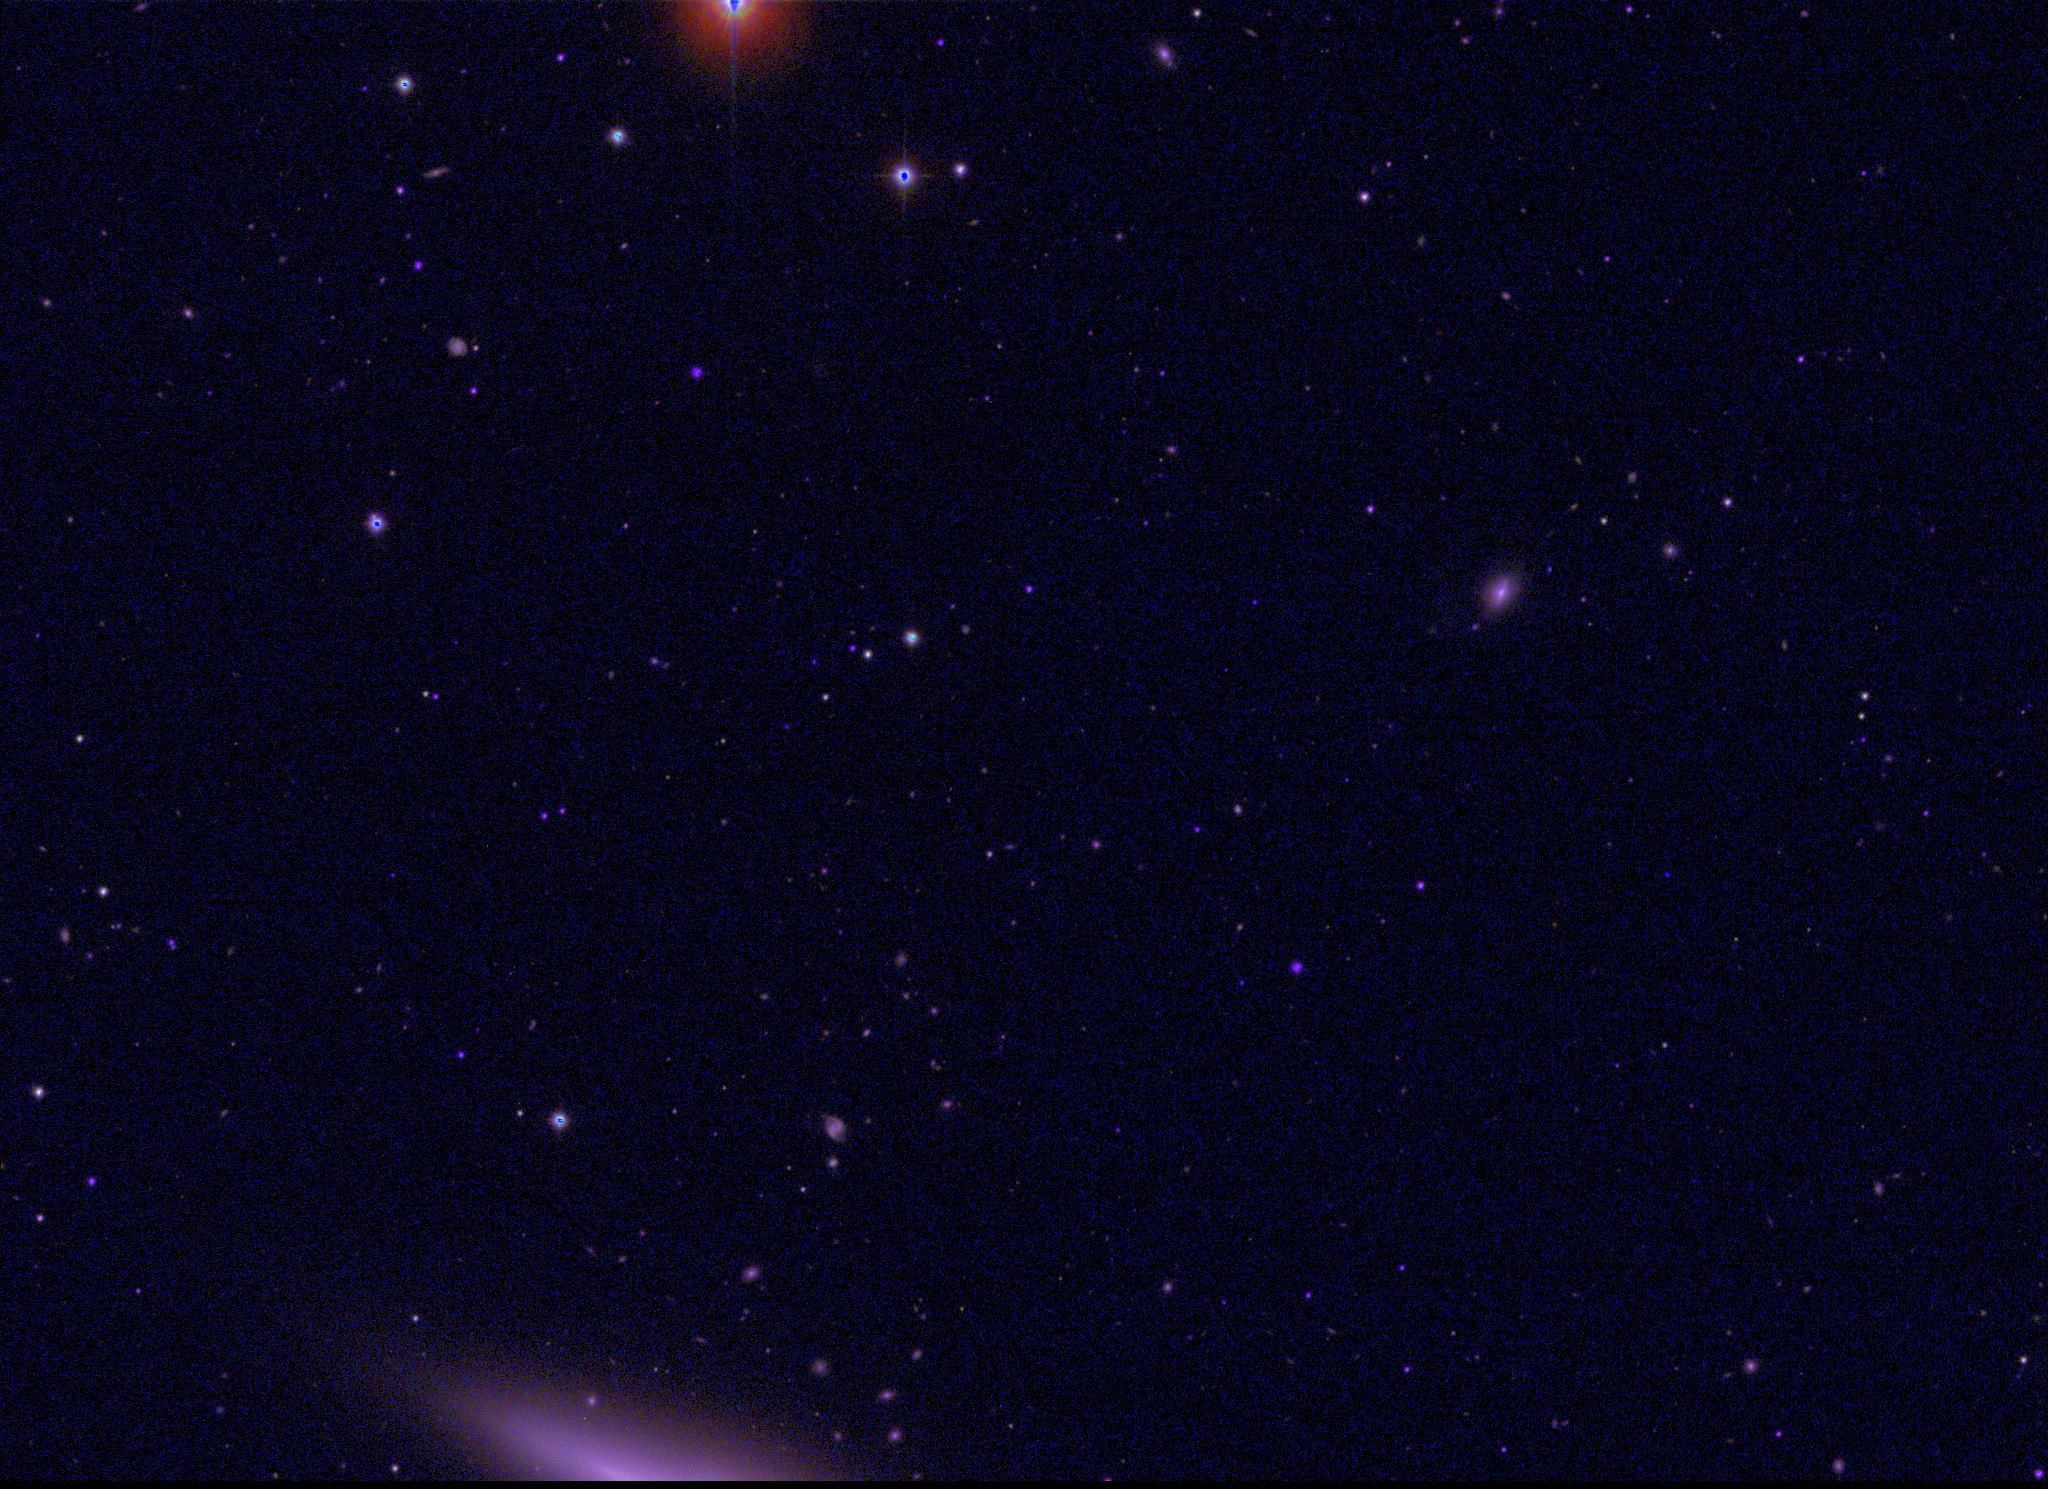L: (1660, 869, 1674, 883)
